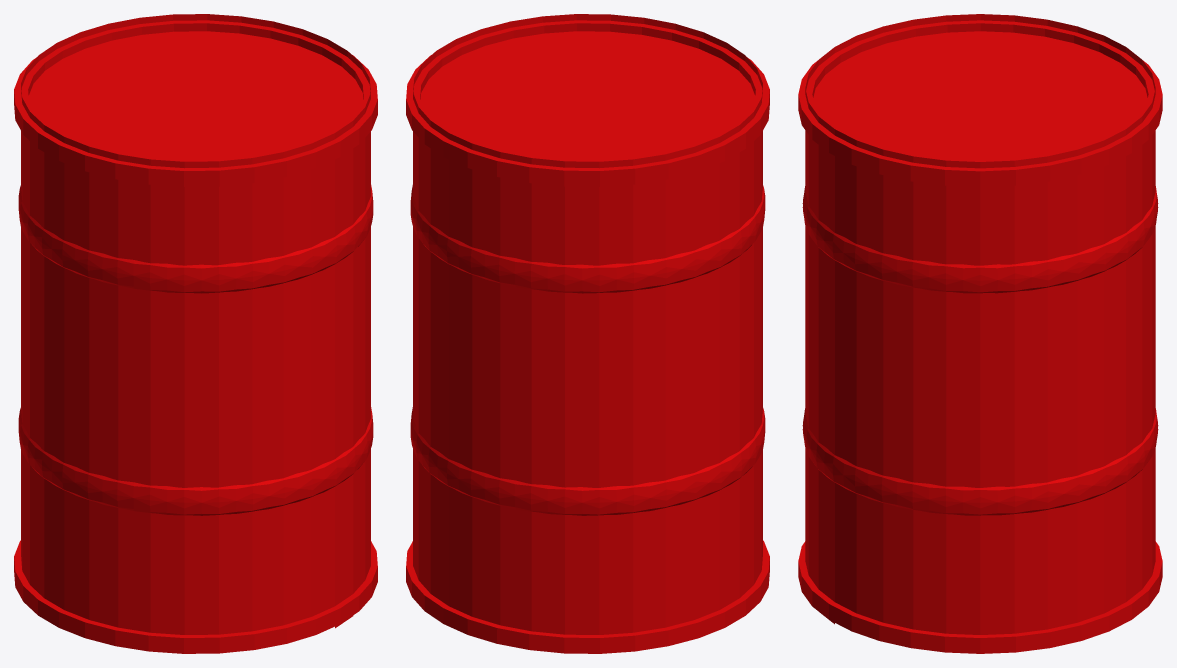
Rendered from Barrel.fbx.
3 views of the same model, side by side, from view 1: azimuth 30°, elevation 25°; view 2: azimuth 150°, elevation 25°; view 3: azimuth 270°, elevation 25° (orthographic).
Parts seen in each view (by area): view 1: Cylinder, Cylinder.003, Cylinder.001, Cylinder.002, Cylinder.004; view 2: Cylinder, Cylinder.003, Cylinder.001, Cylinder.002, Cylinder.004; view 3: Cylinder, Cylinder.003, Cylinder.001, Cylinder.002, Cylinder.004.
Boxes of the visible parts, box(x1,y1,x2,y2) form: Cylinder: box(21, 31, 370, 634); Cylinder.003: box(14, 14, 377, 186); Cylinder.001: box(18, 185, 373, 293); Cylinder.002: box(18, 407, 373, 515); Cylinder.004: box(14, 540, 377, 653); Cylinder: box(413, 31, 762, 628); Cylinder.003: box(406, 14, 769, 186); Cylinder.001: box(410, 185, 765, 293); Cylinder.002: box(410, 407, 765, 515); Cylinder.004: box(406, 540, 769, 653); Cylinder: box(805, 31, 1155, 634); Cylinder.003: box(798, 14, 1162, 187); Cylinder.001: box(802, 186, 1158, 293); Cylinder.002: box(802, 408, 1158, 515); Cylinder.004: box(798, 541, 1162, 653).
Bounding box in the file's own units: 104 × 156 × 104.
